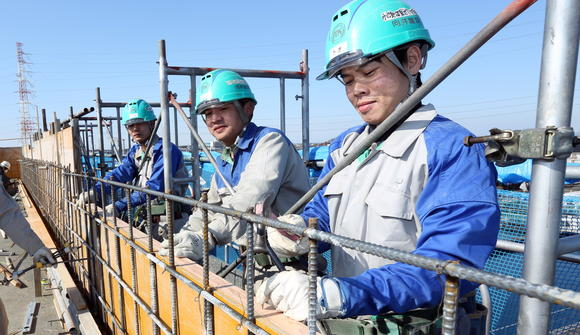epi: (304, 1, 489, 335), (174, 65, 329, 294), (83, 96, 196, 226), (1, 159, 20, 202)
